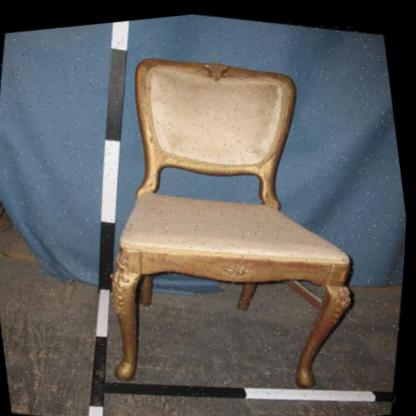Chair: (26, 3, 416, 416)
